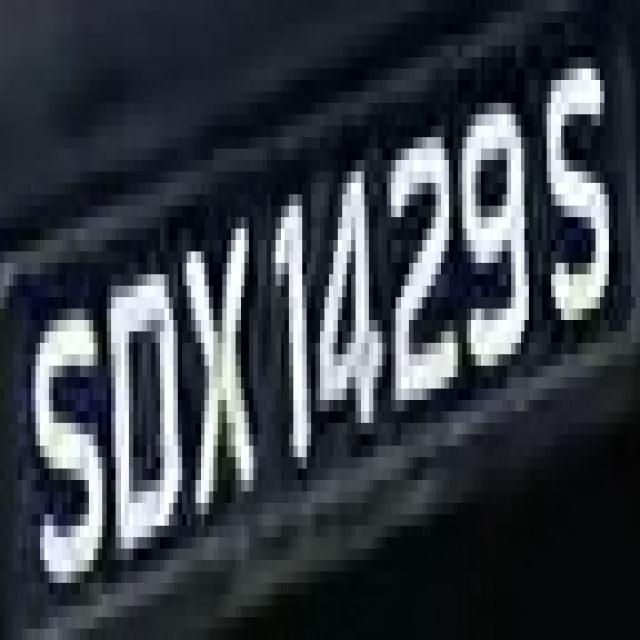1: (262, 183, 311, 514)
2: (373, 103, 462, 446)
4: (302, 149, 391, 480)
9: (444, 80, 529, 434)
D: (98, 252, 191, 537)
S: (27, 274, 111, 629), (538, 57, 622, 389)
X: (173, 240, 280, 560)
